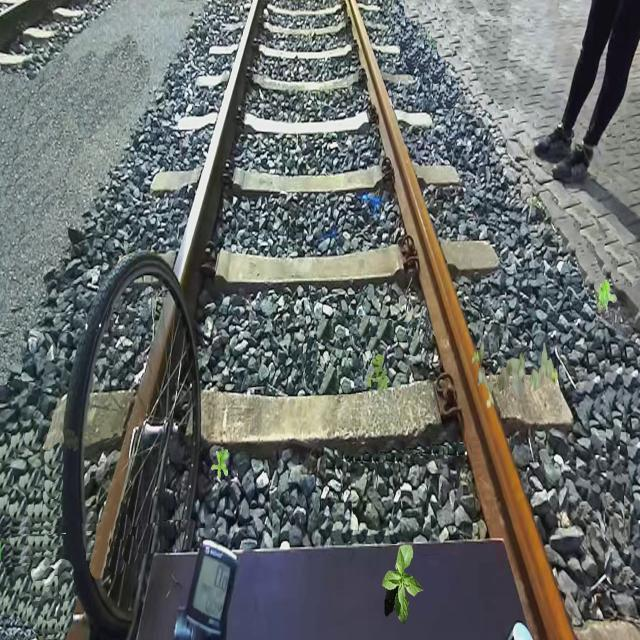Plant: (472, 340, 558, 408), (382, 545, 424, 625), (366, 353, 390, 394), (596, 279, 616, 312), (211, 447, 228, 479)
